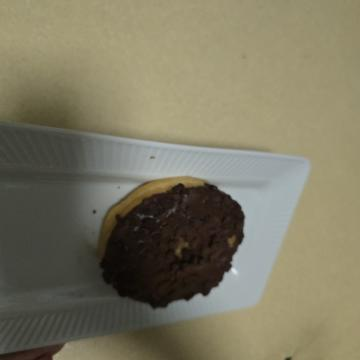doughnut: (165, 105, 320, 279)
